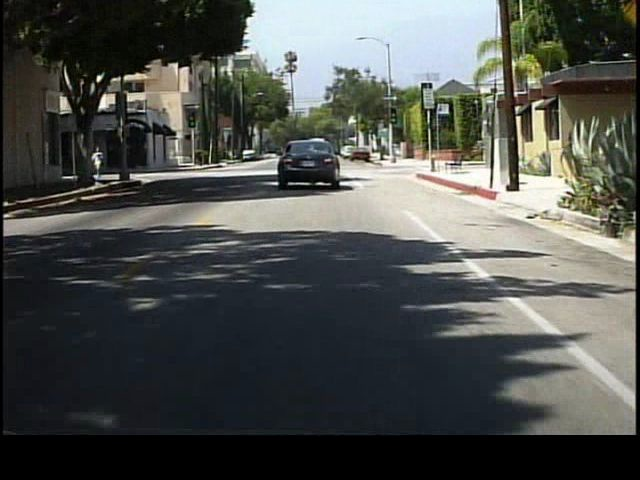person: (93, 142, 106, 182)
